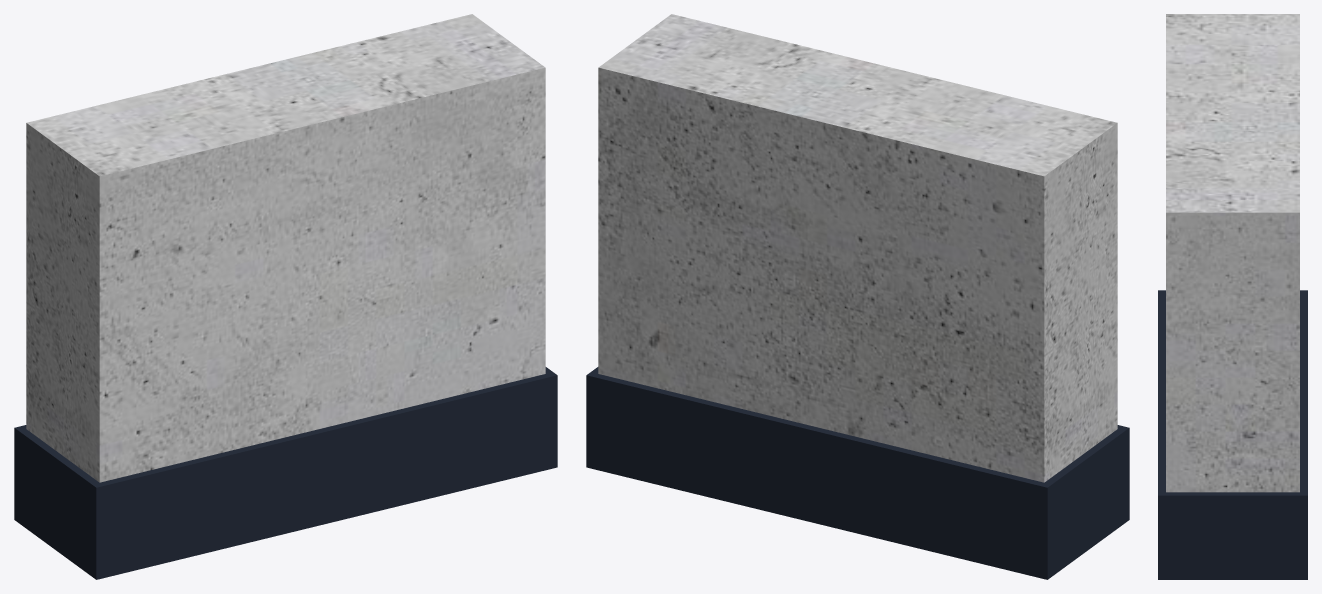
The model's file is WallModel2.fbx.
3 views of the same model, side by side, from view 1: azimuth 30°, elevation 25°; view 2: azimuth 150°, elevation 25°; view 3: azimuth 270°, elevation 25° (orthographic). The views are drawn at different scales.
Parts seen in each view (by area): view 1: WallGoodUVs2; view 2: WallGoodUVs2; view 3: WallGoodUVs2.
Boxes of the visible parts, x1,y1,x2,y2 form: WallGoodUVs2: [14, 14, 557, 579]; WallGoodUVs2: [586, 14, 1129, 579]; WallGoodUVs2: [1158, 14, 1307, 579].
Size of the model in its own units: 4.74 by 3.92 by 1.46.
